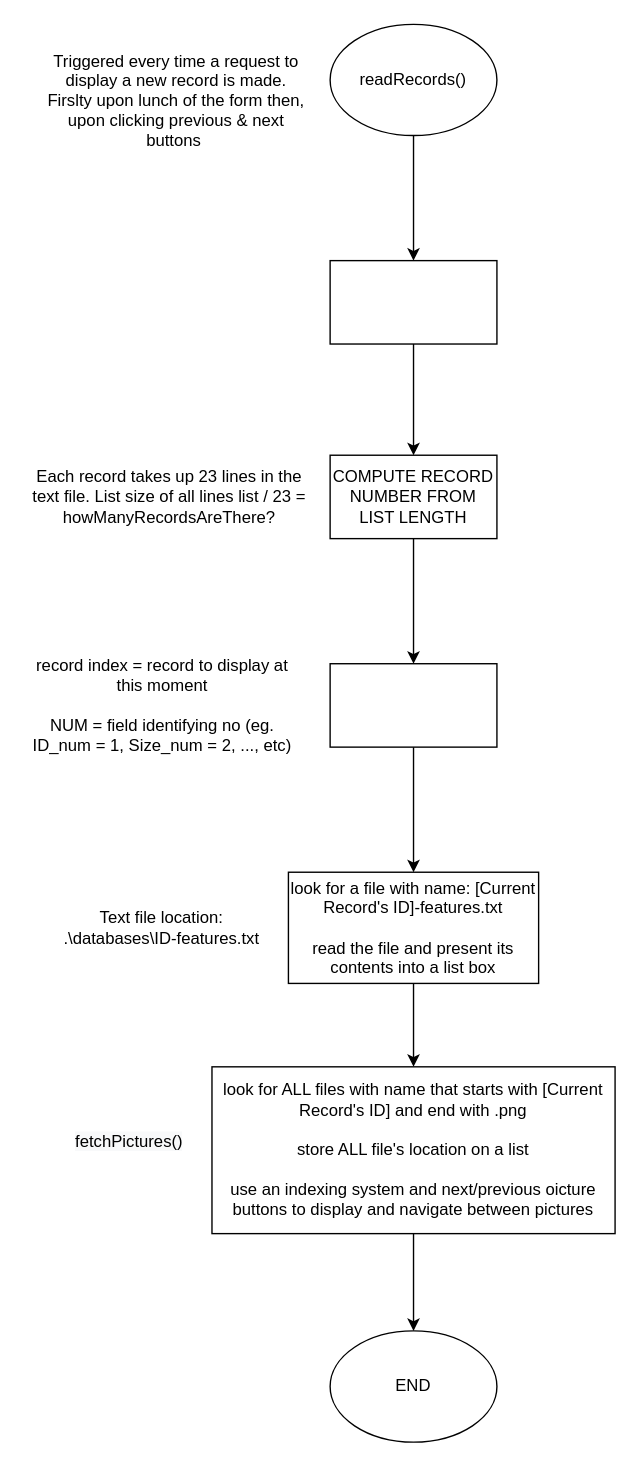
Image size: 639x1466. Some labels were removed from this diagram. Each missing label, with the centre of its shape:
"ASSIGN RECORD INDEX * 23 + [NUM] to respective field" belongs at pixel 413 704.
"MAKE-LIST OF ALL LINES FROM THE TEXT FILE" belongs at pixel 413 301.
